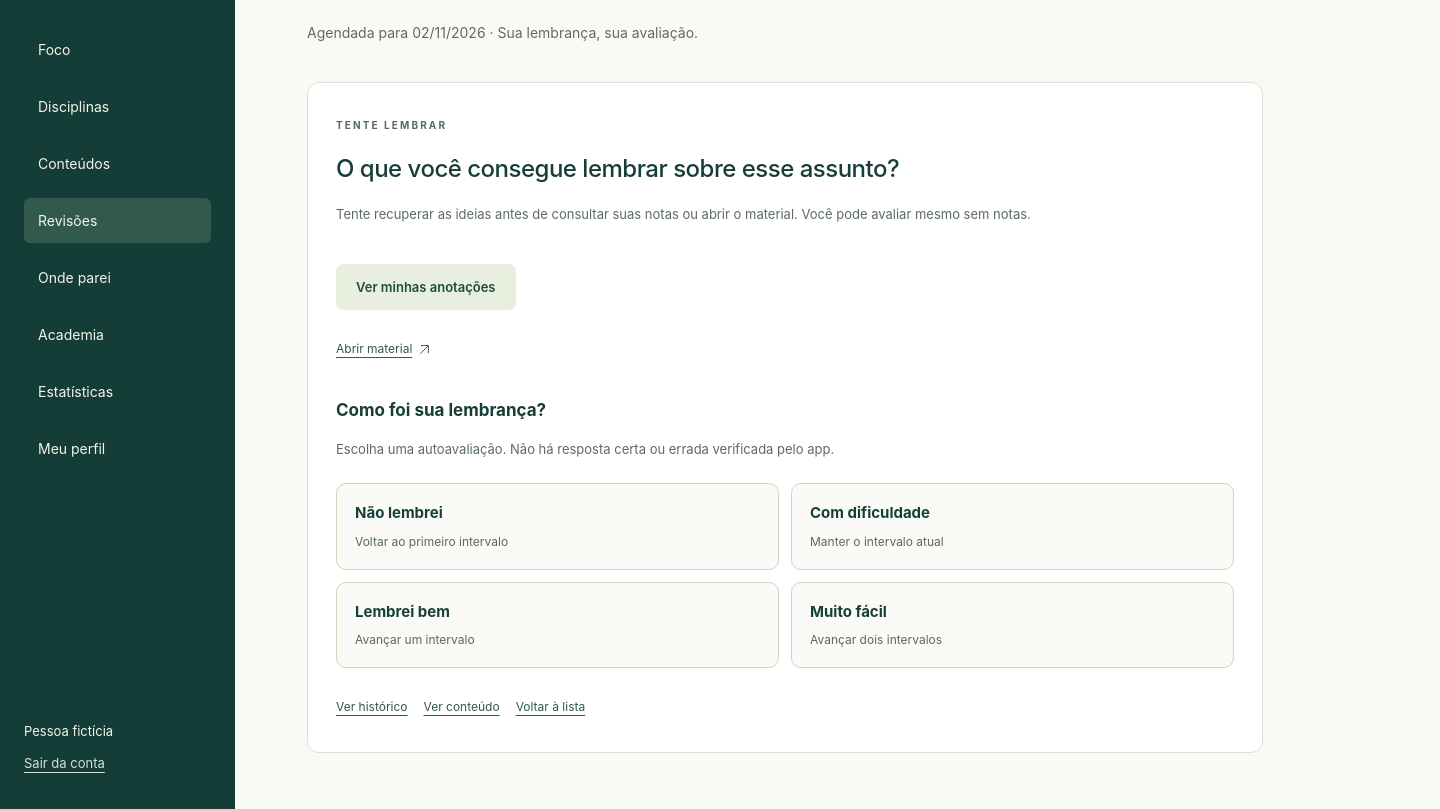
Scenario: revisão por autoavaliação › falha de rede não anuncia sucesso; retry usa mesma chave, versão e avaliação
(page scrolled)
Click the button "Lembrei bem Avançar um intervalo" at (402, 611), box 336,582 -> 779,668
(page scrolled)
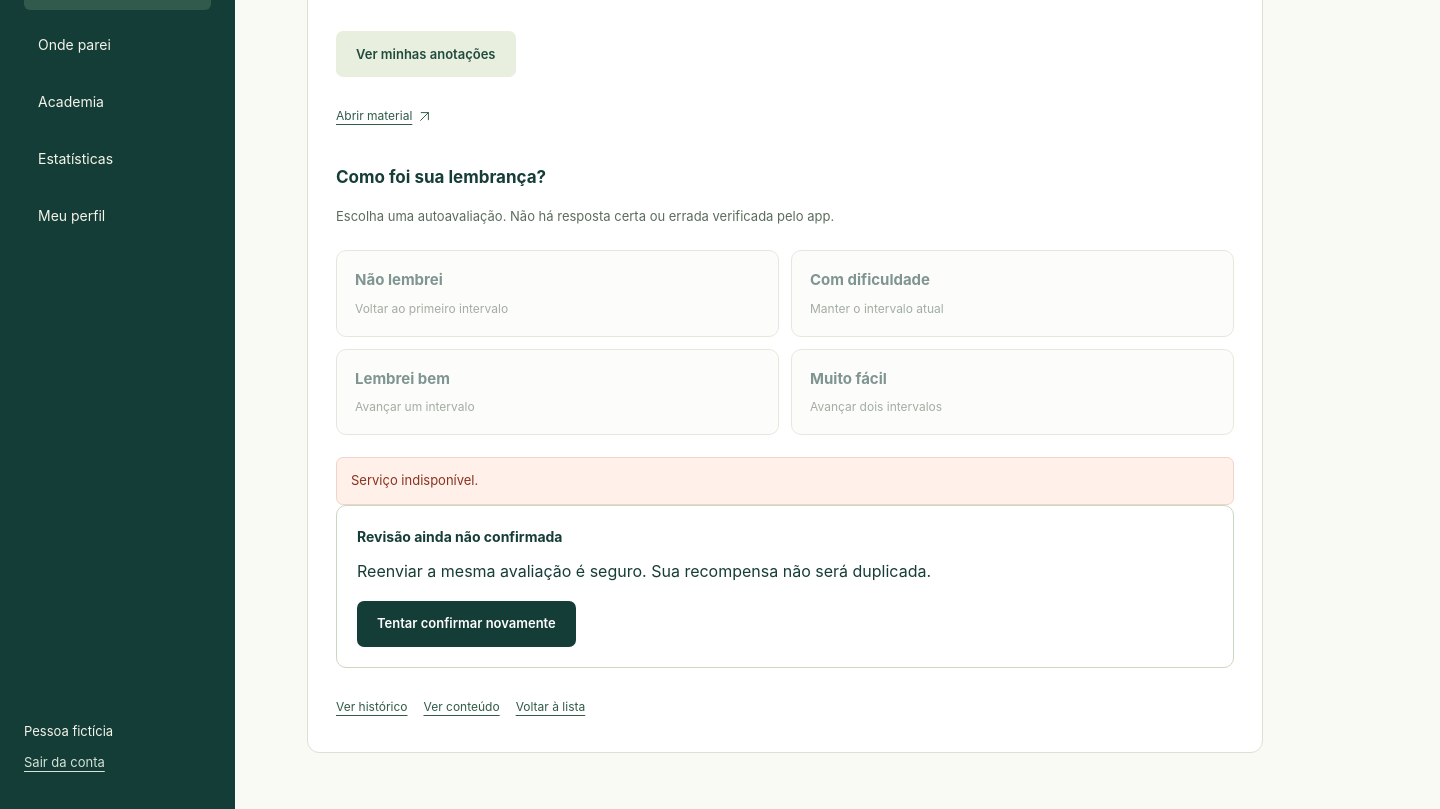
Expected: the text "5 XP concedidos" is not shown
Expected: the heading "Revisão ainda não confirmada" is shown, 357,528 -> 562,545
Expected: the button "Não lembrei Voltar ao primeiro intervalo" is disabled, 336,250 -> 779,337
Click the button "Tentar confirmar novamente" at (466, 624), box 357,601 -> 576,647
(page scrolled)
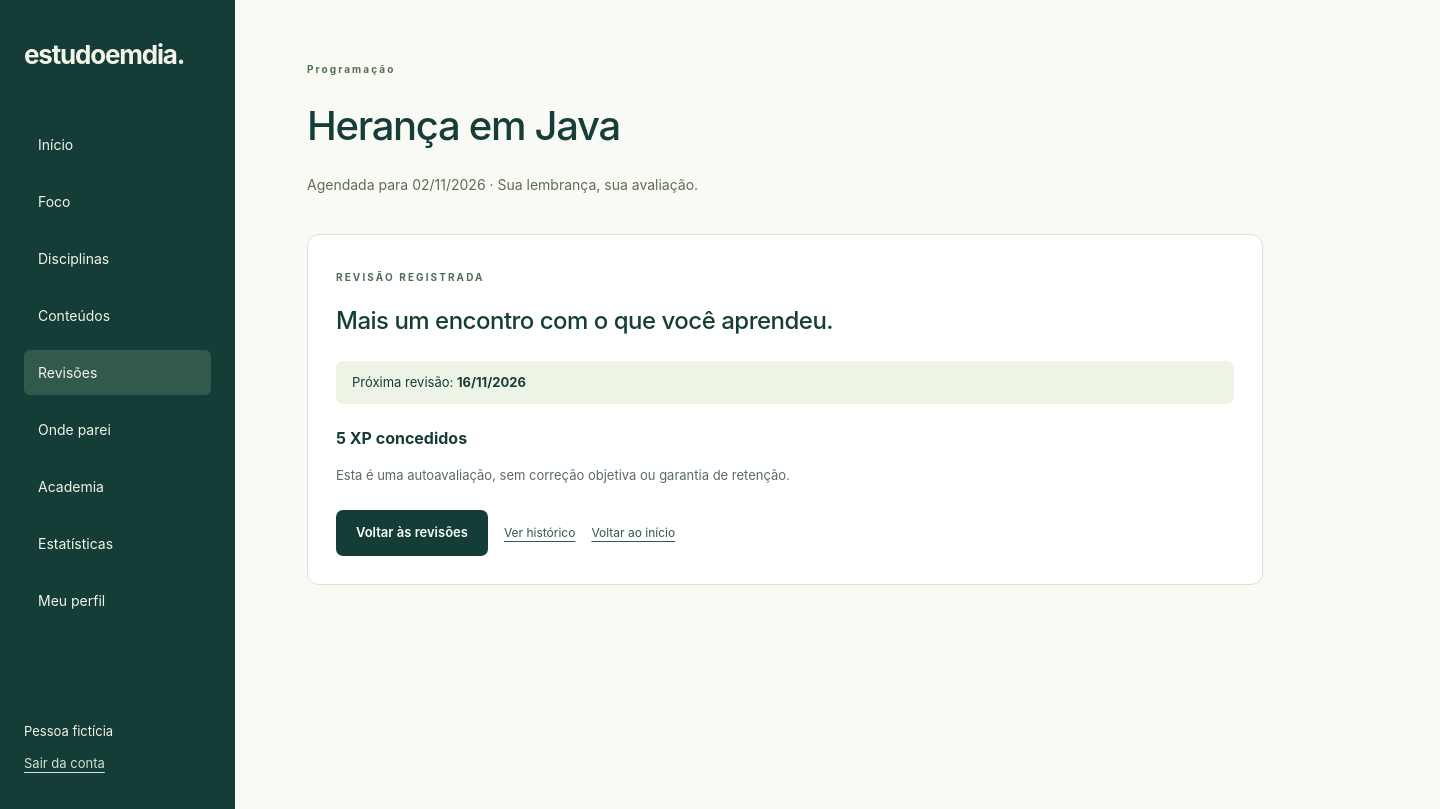
Expected: the text "5 XP concedidos" is shown, 336,428 -> 467,448
